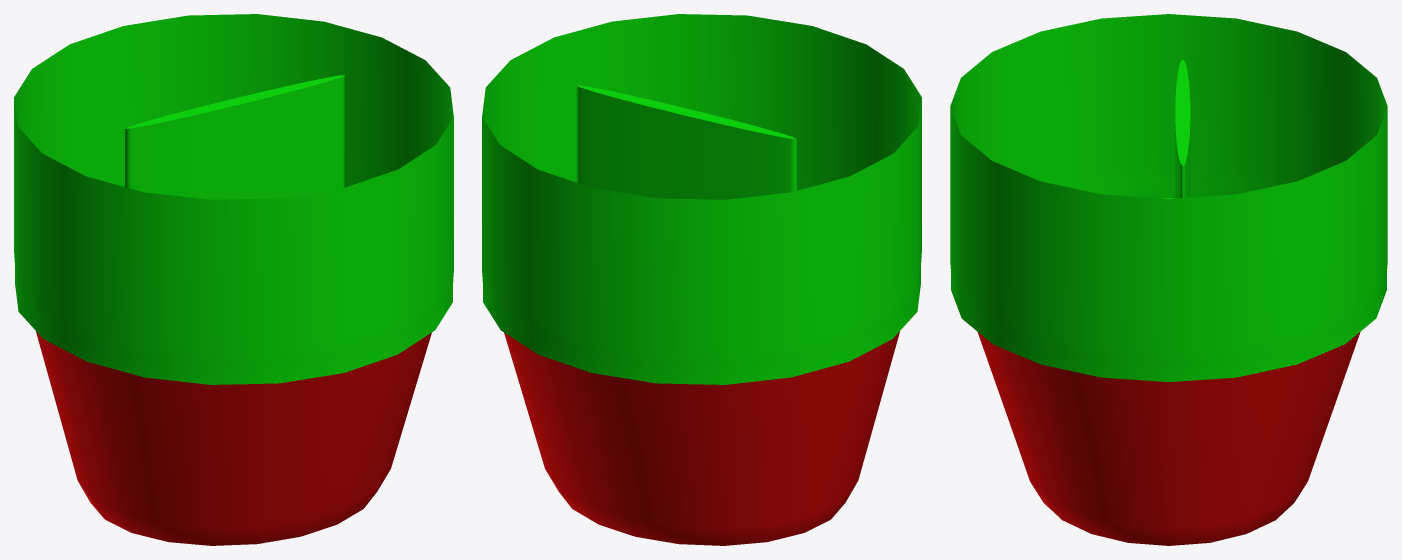
File: SetoFloor2EmergencyLight.fbx
3 renders of one model, left to right at view 1: azimuth 30°, elevation 25°; view 2: azimuth 150°, elevation 25°; view 3: azimuth 270°, elevation 25°, orthographic.
Parts seen in each view (by area): view 1: Floor2EmergencyLight, RotatingLightPiece; view 2: Floor2EmergencyLight, RotatingLightPiece; view 3: Floor2EmergencyLight, RotatingLightPiece.
Part boxes in pixels (x1,y1,x2,y2): Floor2EmergencyLight: (14, 14, 453, 545); RotatingLightPiece: (125, 75, 346, 199); Floor2EmergencyLight: (482, 14, 921, 545); RotatingLightPiece: (575, 85, 796, 199); Floor2EmergencyLight: (950, 14, 1387, 545); RotatingLightPiece: (1175, 59, 1190, 198).
Bounding box in the file's own units: 28.75 × 27.34 × 28.75.
